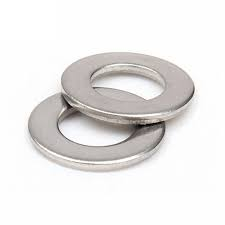No thread: (53, 106, 147, 152), (86, 66, 170, 106)
